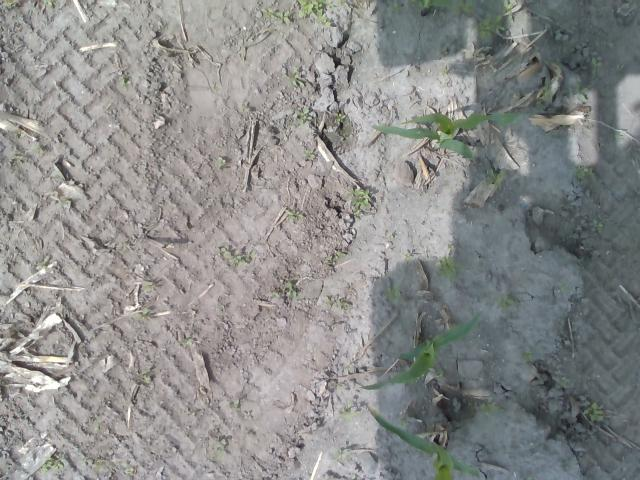Maize: (358, 310, 483, 392), (364, 399, 483, 480), (372, 113, 518, 163), (408, 0, 452, 17)
Weeds: (259, 0, 334, 28), (478, 1, 514, 38), (215, 244, 258, 268), (434, 244, 464, 278), (464, 398, 504, 417), (280, 65, 305, 88), (584, 401, 610, 422), (495, 292, 520, 311), (486, 168, 506, 190), (452, 0, 481, 15), (340, 399, 359, 420), (322, 296, 350, 310), (325, 248, 350, 263), (586, 216, 605, 235), (34, 254, 52, 274), (351, 188, 371, 206), (41, 456, 62, 472), (296, 106, 312, 126), (212, 432, 228, 450), (574, 164, 594, 178), (286, 209, 306, 223), (560, 376, 578, 390), (575, 84, 588, 102), (542, 79, 552, 102), (590, 50, 604, 66), (558, 278, 570, 296), (386, 0, 401, 14), (134, 308, 152, 319), (286, 280, 297, 298), (386, 288, 400, 302), (333, 111, 348, 124), (178, 336, 194, 348), (140, 368, 150, 385), (303, 148, 317, 159), (521, 350, 534, 360), (216, 156, 226, 168), (118, 78, 130, 86), (442, 64, 449, 77), (402, 253, 412, 262)
